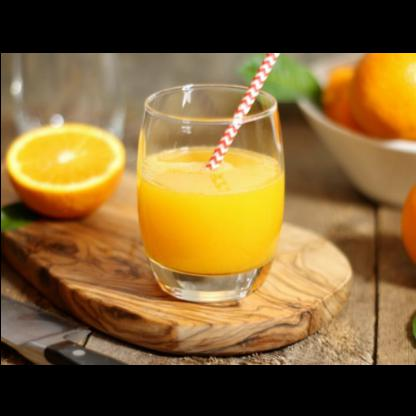orange juice: (136, 142, 284, 278)
